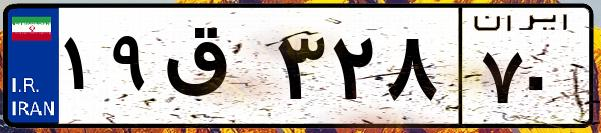0: (525, 38, 570, 115)
1: (57, 26, 110, 100)
2: (330, 28, 385, 110)
3: (270, 28, 330, 110)
7: (475, 38, 525, 113)
8: (385, 28, 445, 110)
9: (110, 28, 158, 98)
ق: (158, 20, 270, 120)
